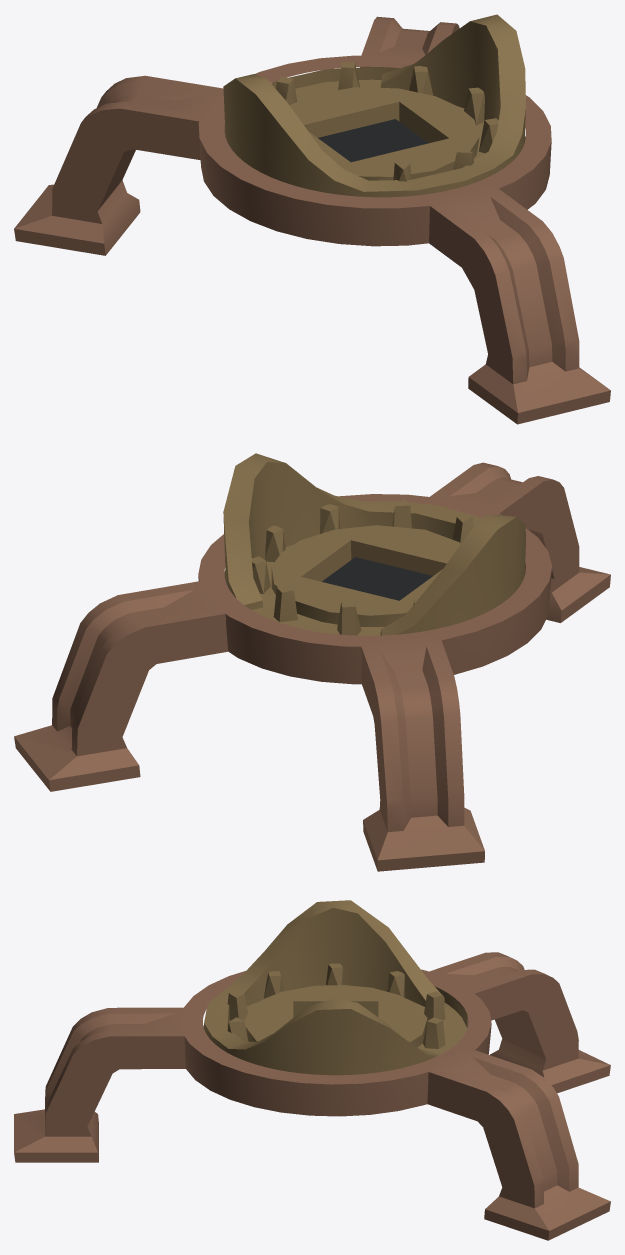
File: burner-inserter-south.glb
The picture shows the model from 3 angles, top to bottom: view 1: azimuth 30°, elevation 25°; view 2: azimuth 150°, elevation 25°; view 3: azimuth 270°, elevation 25°; orthographic projection. The views are drawn at different scales.
Visible parts, largest first — view 1: body; view 2: body; view 3: body.
Boxes of the visible parts, box(x1,y1,x2,y2) form: body: box(14, 14, 610, 424); body: box(14, 453, 610, 871); body: box(14, 900, 610, 1240).
Size of the model in its own units: 0.9131 by 0.415 by 1.18.
